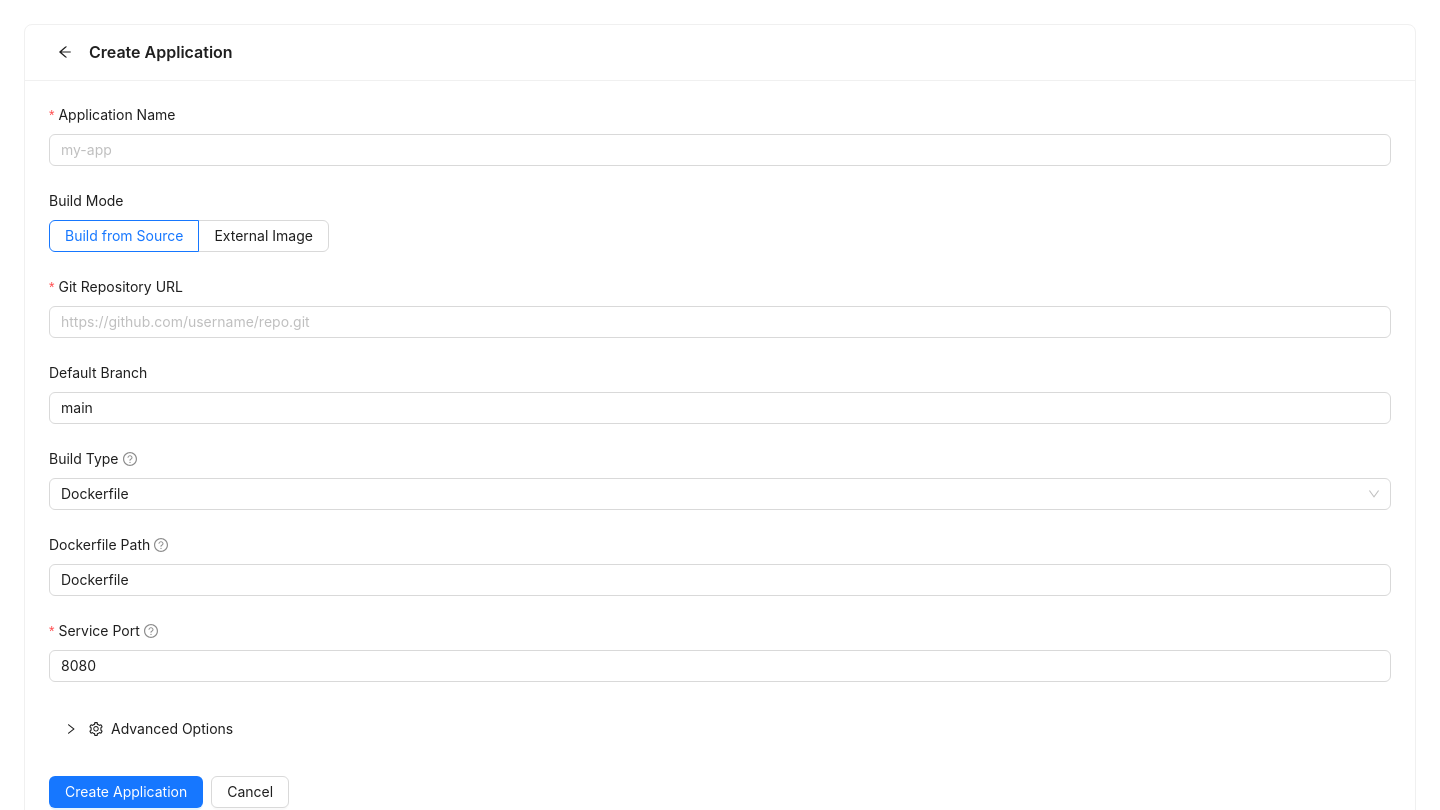
CreateApp Component › validates application name pattern
The width and height of the screenshot is (1440, 810).
Enter invalid name (uppercase letters)
Step 1. Type "Invalid-Name-123" into the field labelled "Application Name" → (720, 150), box top-left (49, 134), bottom-right (1391, 166)
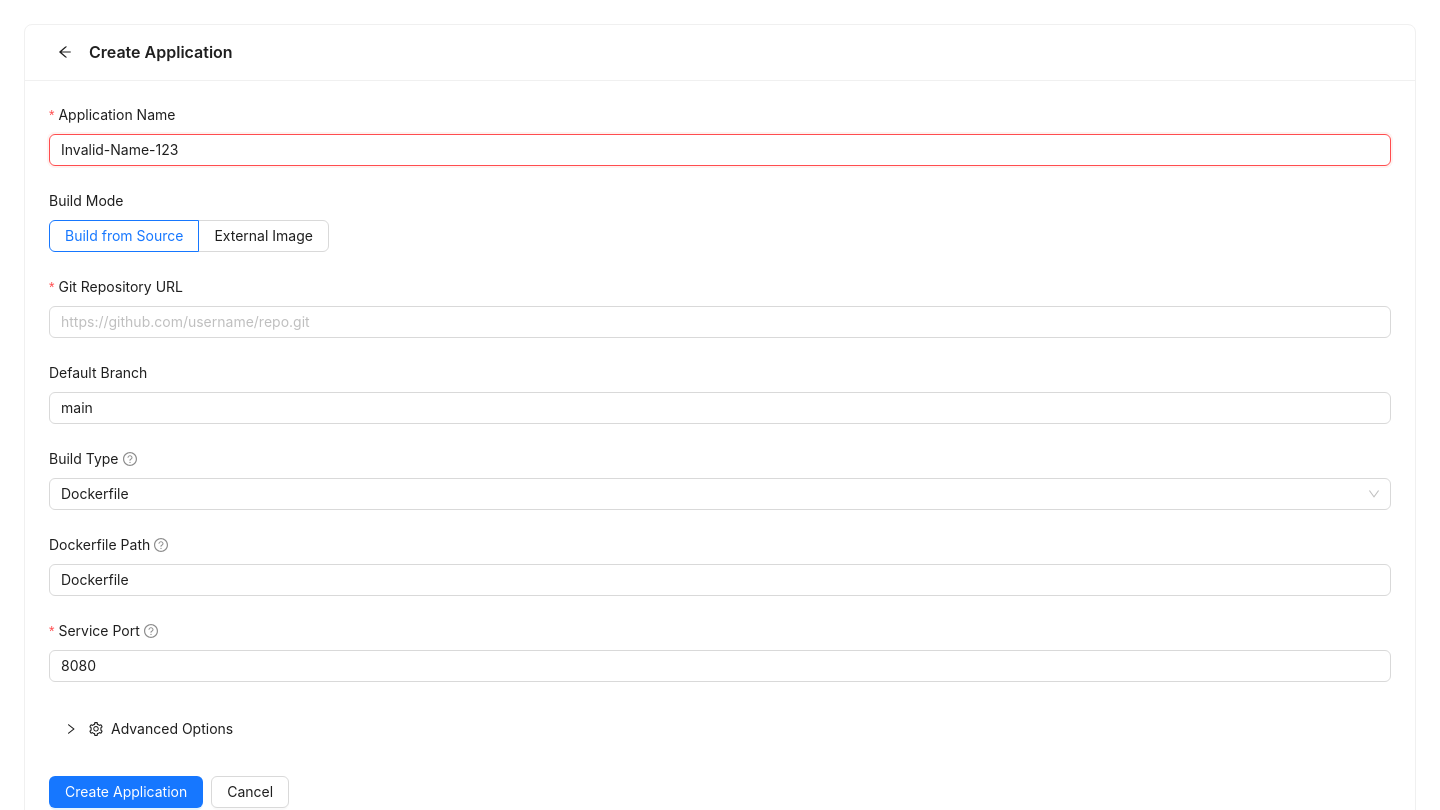
Step 2. Click the button "Create Application" → (126, 792), box top-left (49, 776), bottom-right (203, 808)
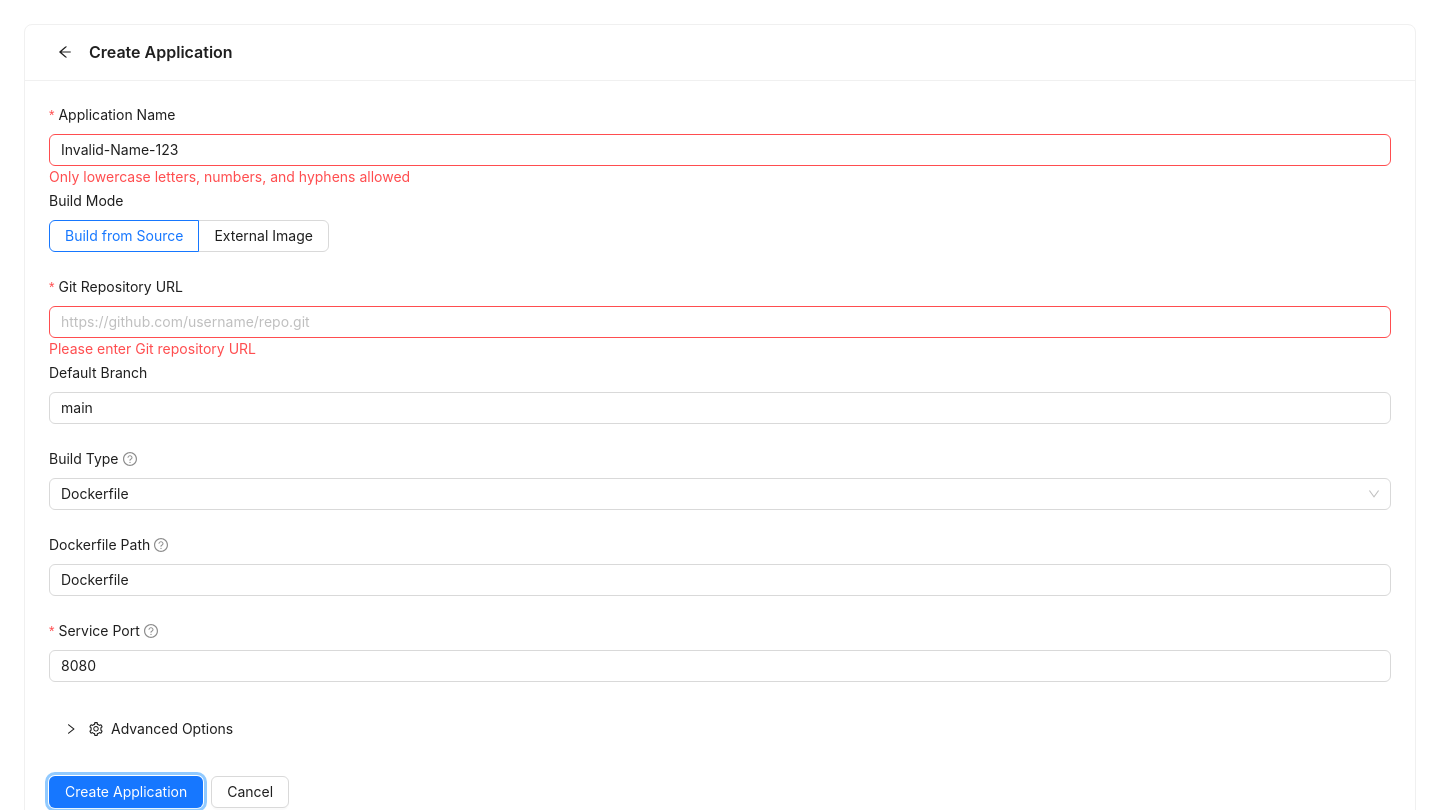
Expected: the text "Only lowercase letters, numbers, and hyphens allowed" is shown, top-left (49, 168), bottom-right (410, 185)
